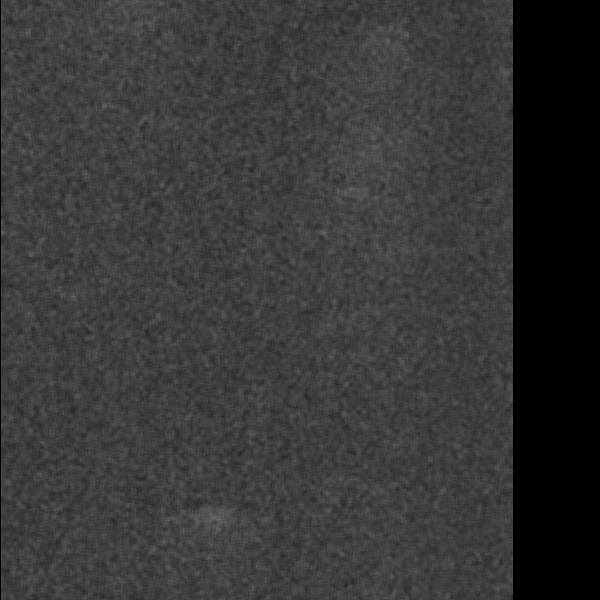spark: (201, 501, 232, 558), (318, 180, 385, 203)
